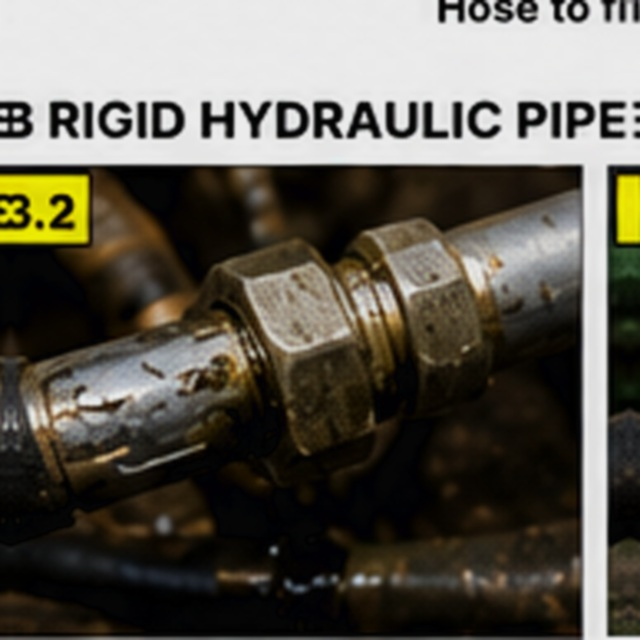hydraulic_oil_leak: (157, 272, 441, 451)
